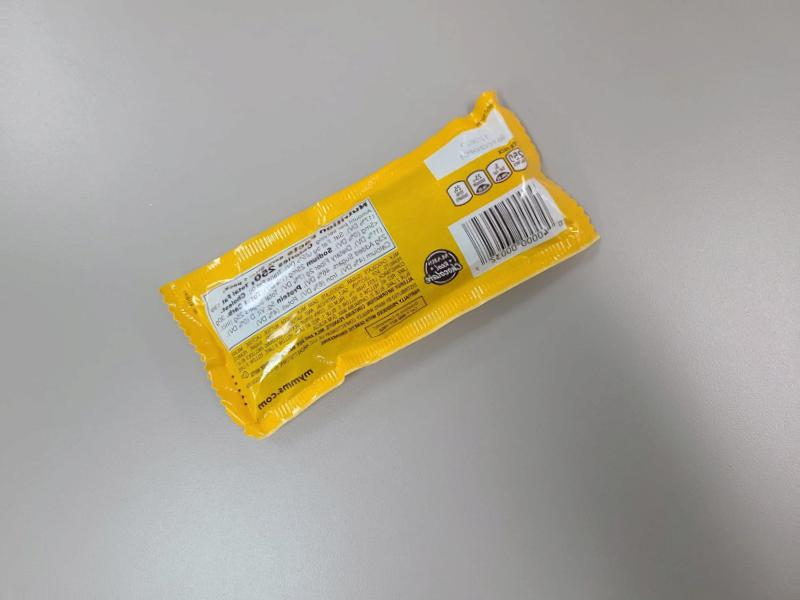m&m: (170, 92, 591, 428)
